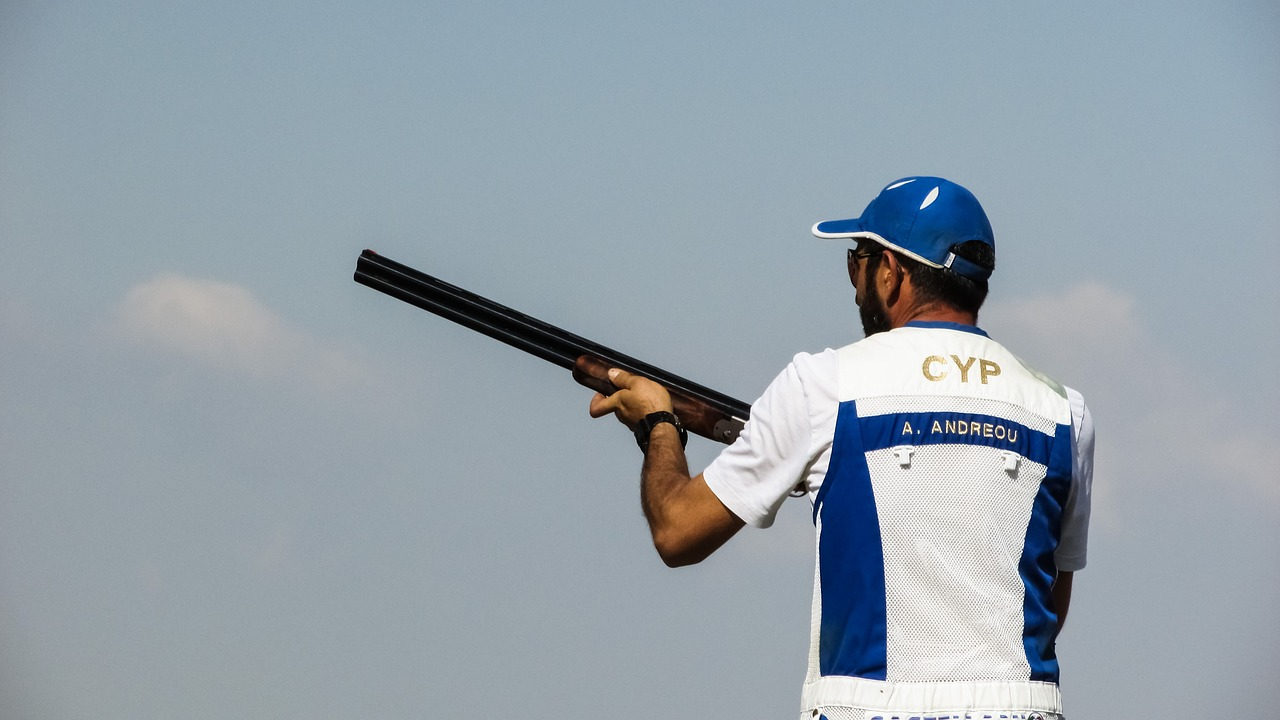gun: (346, 245, 810, 500)
